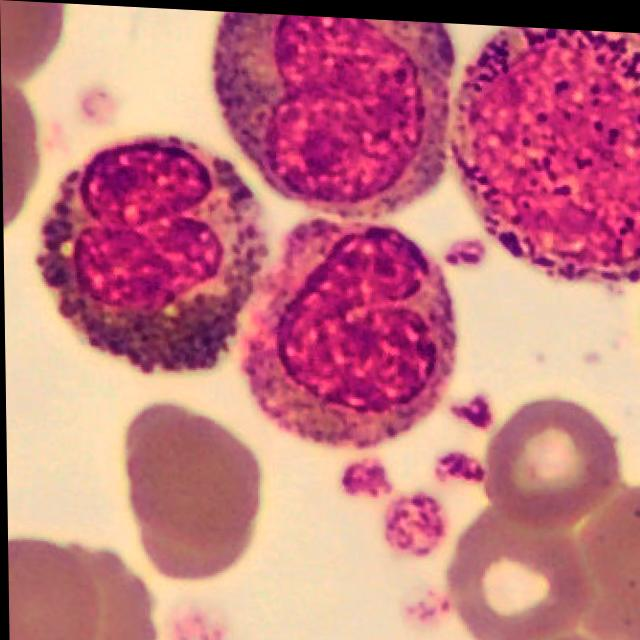Bastonete: (244, 215, 456, 443)
Eosinofilo: (39, 135, 252, 369)
Metamielocito: (213, 9, 450, 212)
Promielocito: (449, 20, 640, 276)
